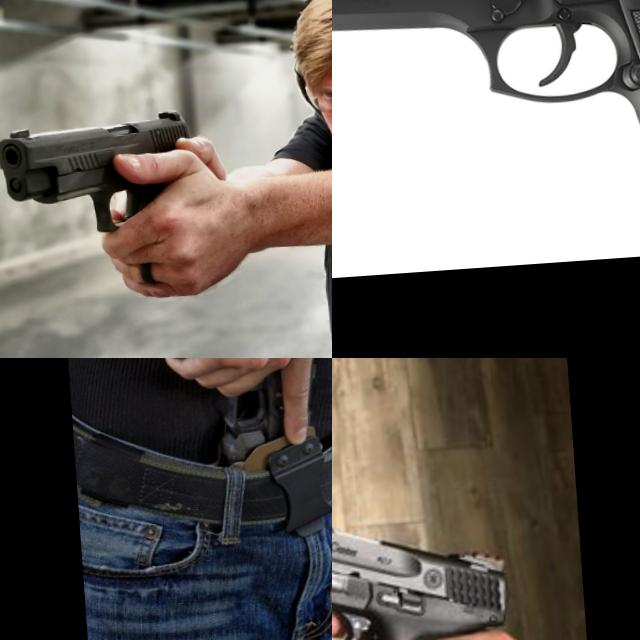handgun: (332, 0, 640, 268), (332, 440, 535, 640), (0, 103, 206, 244), (144, 358, 332, 458)
